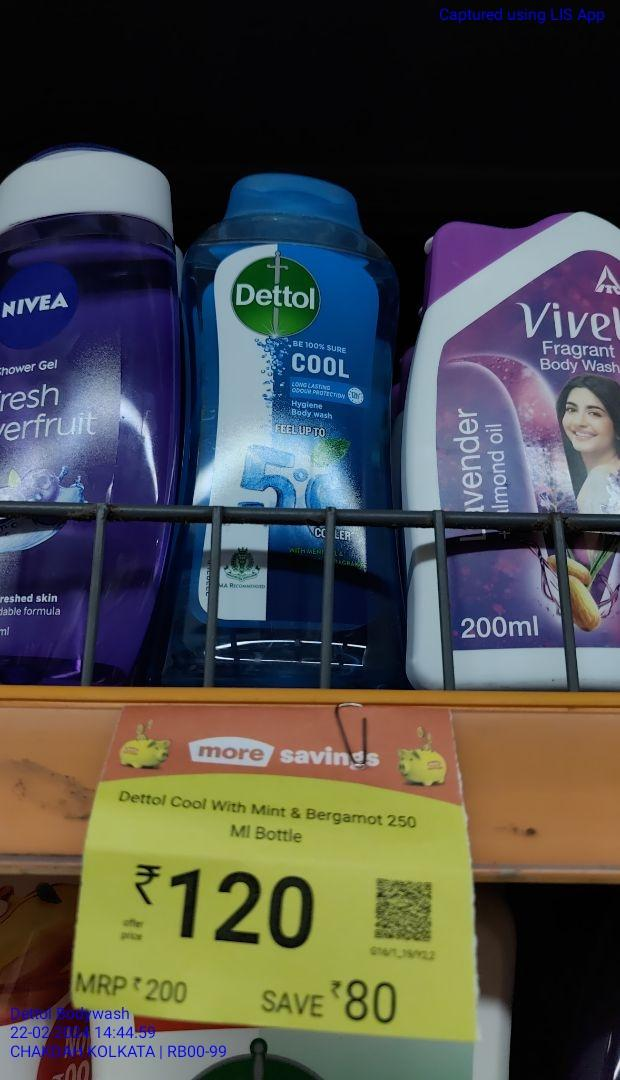Dettol_Bodywash_Cool: (197, 172, 382, 675)
